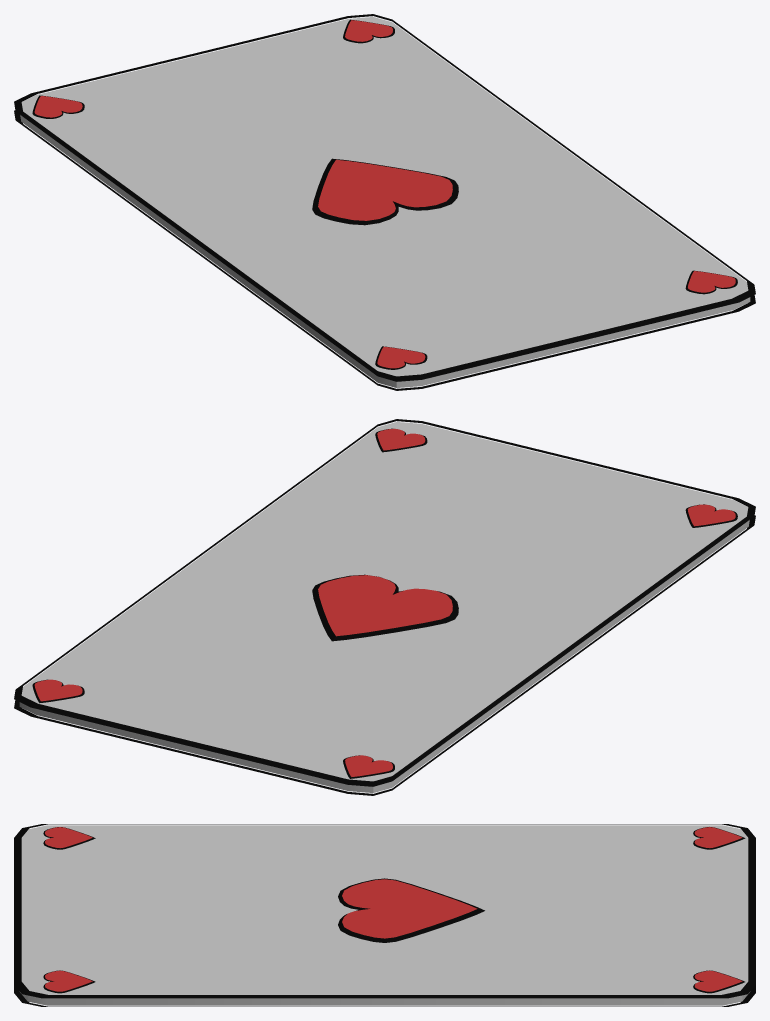
Rendered from Card2.fbx.
3 views of the same model, one above another, from view 1: azimuth 30°, elevation 25°; view 2: azimuth 150°, elevation 25°; view 3: azimuth 270°, elevation 25° (orthographic). The views are drawn at different scales.
Parts seen in each view (by area): view 1: Cube.008; view 2: Cube.008; view 3: Cube.008.
Boxes of the visible parts, x1,y1,x2,y2 form: Cube.008: (14,14,755,390); Cube.008: (14,419,755,795); Cube.008: (14,824,755,1006).
Size of the model in its own units: 86.02 by 3.05 by 155.
